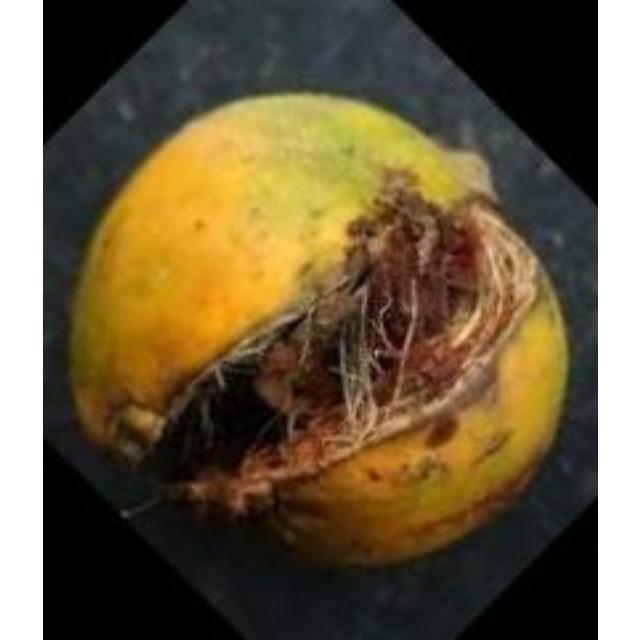damaged: (69, 96, 565, 560)
